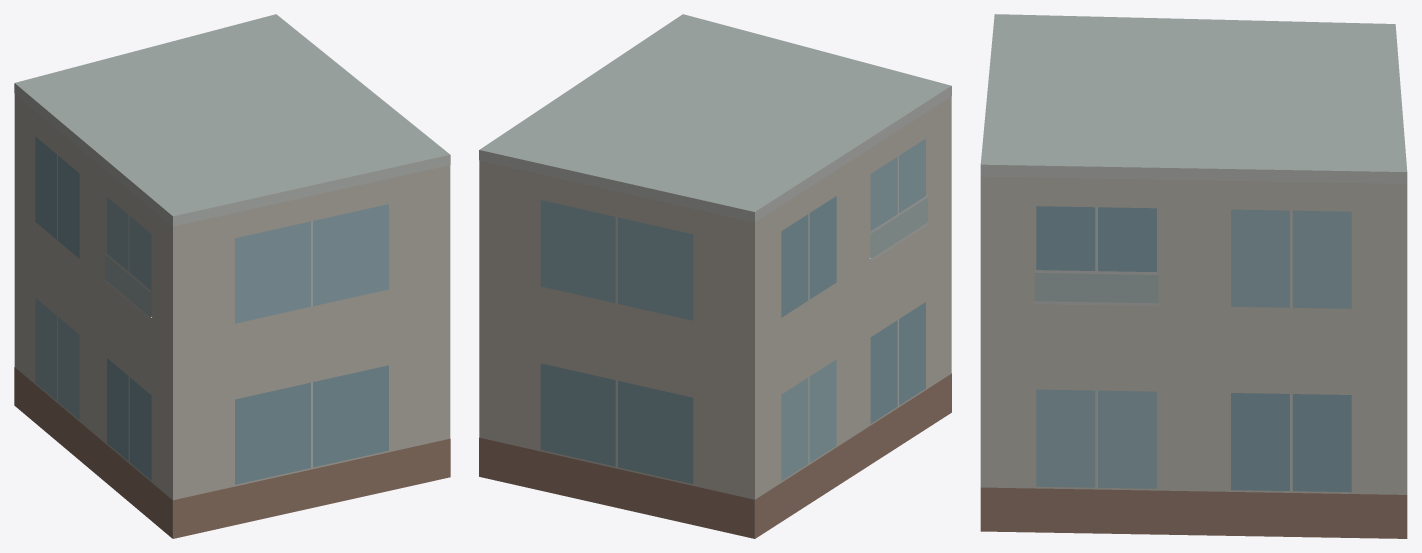
Rendered from survey-upis-32610495.glb.
The picture shows the model from 3 angles, left to right: view 1: azimuth 30°, elevation 25°; view 2: azimuth 150°, elevation 25°; view 3: azimuth 270°, elevation 25°; orthographic projection. The views are drawn at different scales.
Visible parts, largest first — view 1: survey-upis-32610495.tmp; view 2: survey-upis-32610495.tmp; view 3: survey-upis-32610495.tmp.
Boxes of the visible parts, x1=… form: survey-upis-32610495.tmp: x1=14, y1=14, x2=450, y2=538; survey-upis-32610495.tmp: x1=479, y1=14, x2=951, y2=538; survey-upis-32610495.tmp: x1=980, y1=14, x2=1407, y2=538.
Size of the model in its own units: 7.03 by 7.6 by 8.03.
